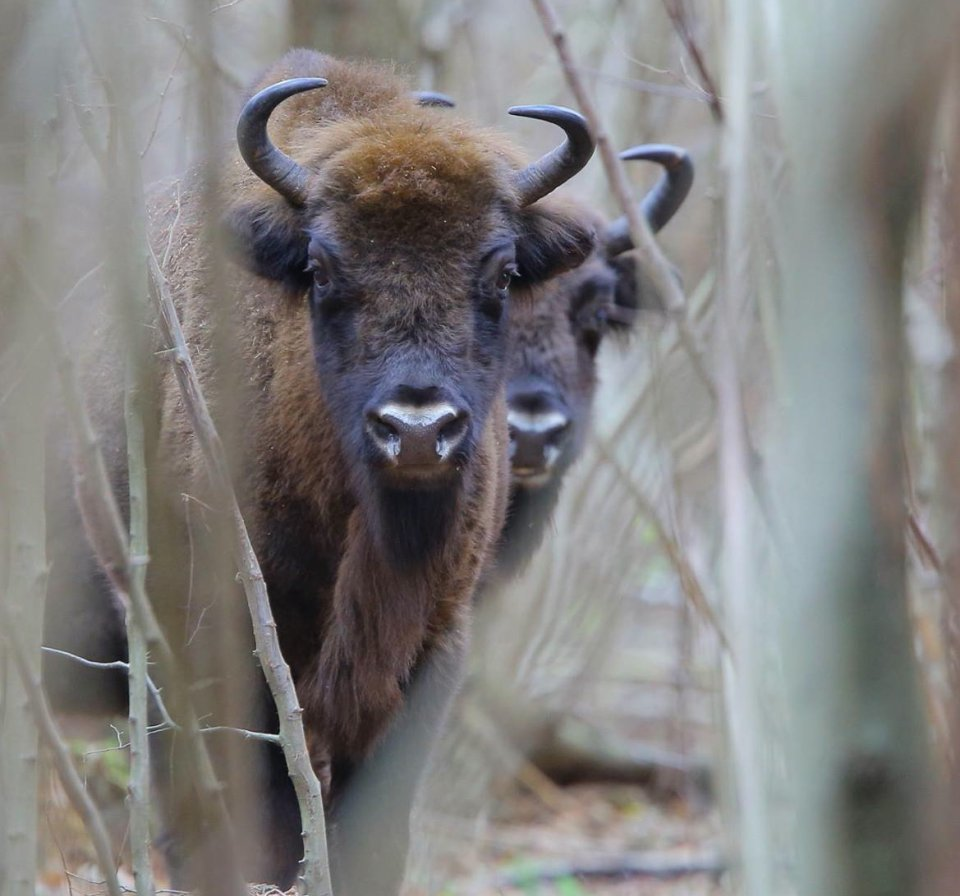zubr: (150, 40, 616, 736)
